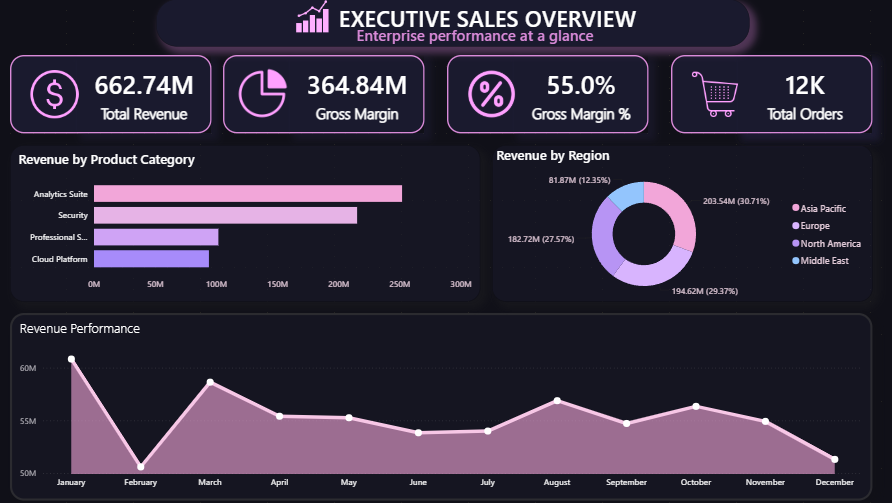

Layout of this report page (visuals, bound fields, positions):
{"tool":"powerbi","page":{"name":"Executive Overview","canvas":[1280,720],"ordinal":0},"visuals":[{"type":"areaChart","title":"Revenue Performance","fields":{"Category":["dim_date.full_date.Variation.Date Hierarchy.Year","dim_date.full_date.Variation.Date Hierarchy.Quarter","dim_date.full_date.Variation.Date Hierarchy.Month","dim_date.full_date.Variation.Date Hierarchy.Day"],"Y":["_Measures.Total Revenue"]},"box":[16,448,1232,268],"z":0},{"type":"barChart","title":" Revenue by Product Category","fields":{"Category":["dim_product.category"],"Y":["_Measures.Total Revenue"]},"box":[16,208,672,224],"z":1000},{"type":"donutChart","title":"Revenue by Region","fields":{"Category":["dim_region.continent","dim_region.country"],"Y":["_Measures.Total Revenue"]},"box":[704,208,544,224],"z":2000},{"type":"card","fields":{"Values":["_Measures.Net Revenue"]},"box":[1056,80,192,112],"z":3000},{"type":"shape","box":[320,80,288,112],"z":4000},{"type":"shape","box":[640,80,288,112],"z":5000},{"type":"shape","box":[960,80,288,112],"z":6000},{"type":"card","fields":{"Values":["_Measures.Gross Margin %"]},"box":[736,80,192,112],"z":7000},{"type":"card","fields":{"Values":["_Measures.Gross Margin"]},"box":[416,80,192,112],"z":8000},{"type":"card","fields":{"Values":["_Measures.Total Order"]},"box":[1056,80,192,112],"z":9000},{"type":"image","box":[656,96,96,80],"z":10000},{"type":"image","box":[976,96,96,80],"z":11000},{"type":"image","box":[336,96,80,80],"z":12000},{"type":"shape","box":[224,0,848,68],"z":13000},{"type":"textbox","box":[240,0,784,64],"z":14000},{"type":"image","box":[416,0,64,48],"z":15000},{"type":"textbox","box":[480,32,400,48],"z":16000},{"type":"shape","box":[16,80,288,112],"z":17000},{"type":"card","fields":{"Values":["_Measures.Net Revenue"]},"box":[112,80,192,112],"z":18000},{"type":"image","box":[32,80,96,112],"z":19000}]}

Visuals, with their boxes in screenshot pixels (x1, y1, x2, y2), scaled from the page's 1280x720 canvas onto the 892x503 screenshot:
"Revenue Performance" areaChart: 11, 313, 870, 500
" Revenue by Product Category" barChart: 11, 145, 479, 302
"Revenue by Region" donutChart: 491, 145, 870, 302
card - _Measures.Net Revenue: 736, 56, 870, 134
shape: 223, 56, 424, 134
shape: 446, 56, 647, 134
shape: 669, 56, 870, 134
card - _Measures.Gross Margin %: 513, 56, 647, 134
card - _Measures.Gross Margin: 290, 56, 424, 134
card - _Measures.Total Order: 736, 56, 870, 134
image: 457, 67, 524, 123
image: 680, 67, 747, 123
image: 234, 67, 290, 123
shape: 156, 0, 747, 48
textbox: 167, 0, 714, 45
image: 290, 0, 334, 34
textbox: 334, 22, 613, 56
shape: 11, 56, 212, 134
card - _Measures.Net Revenue: 78, 56, 212, 134
image: 22, 56, 89, 134
